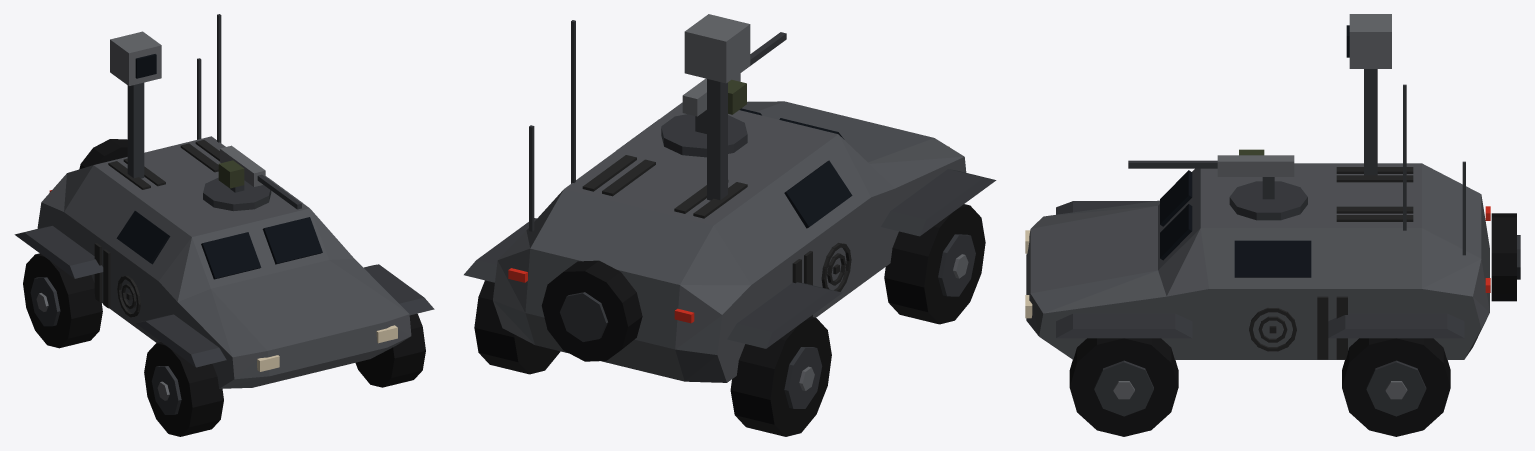
The model's file is scout.glb.
3 views of the same model, side by side, from view 1: azimuth 30°, elevation 25°; view 2: azimuth 150°, elevation 25°; view 3: azimuth 270°, elevation 25° (orthographic). The views are drawn at different scales.
Visible parts, largest first — view 1: body, top; view 2: body, top; view 3: body, top.
Part boxes in pixels (bbox=[...]): body: bbox=[14, 14, 434, 436]; top: bbox=[203, 145, 301, 211]; body: bbox=[464, 14, 996, 436]; top: bbox=[661, 32, 786, 157]; body: bbox=[1025, 14, 1520, 436]; top: bbox=[1128, 149, 1307, 220].
Size of the model in its own units: 3.74 by 4.26 by 5.82.
